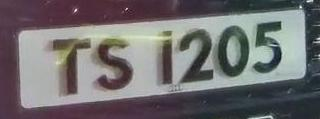0: (214, 20, 254, 82)
1: (149, 28, 182, 90)
2: (175, 22, 219, 90)
5: (249, 17, 290, 80)
S: (88, 32, 142, 96)
T: (45, 31, 98, 100)
